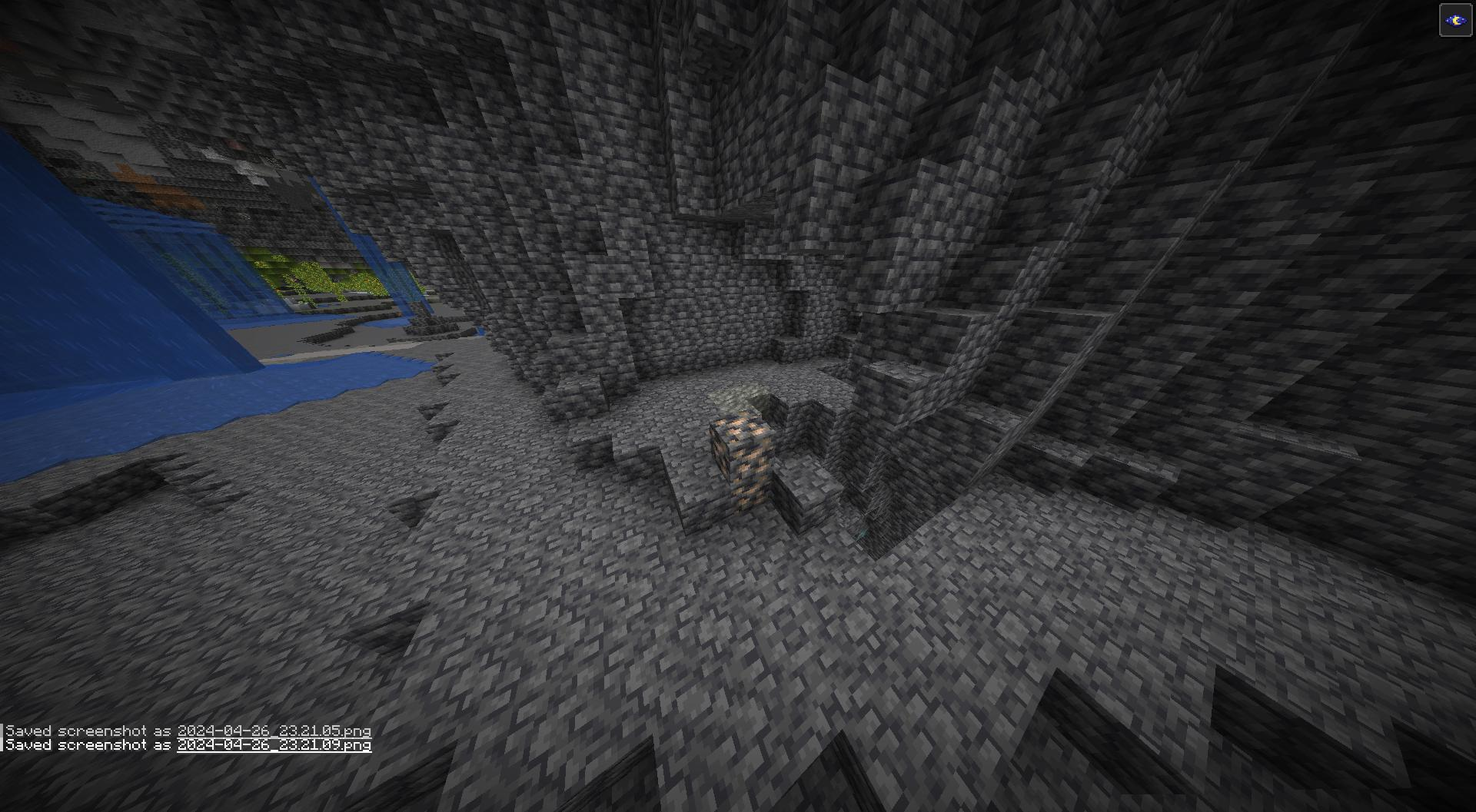iron ore: (712, 414, 774, 475), (729, 474, 772, 514)
